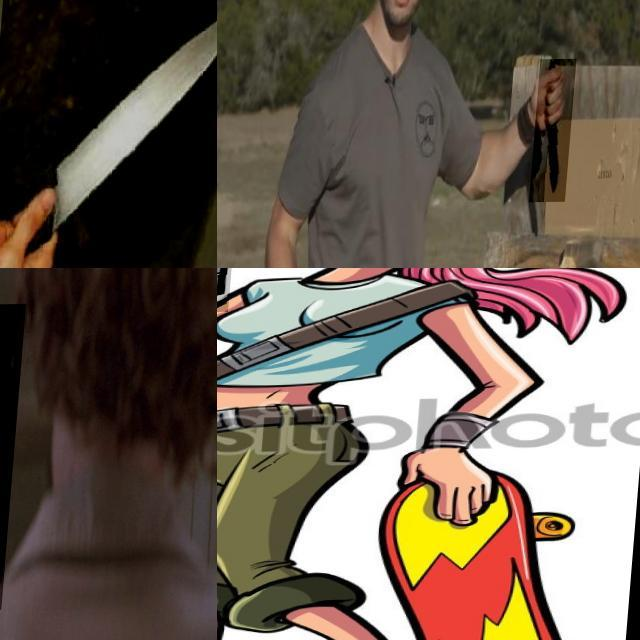-: (0, 0, 217, 268), (535, 60, 580, 204)
gun-knife-thesis - v11 Yolov5 augmented: (0, 305, 74, 612), (217, 268, 322, 336)
